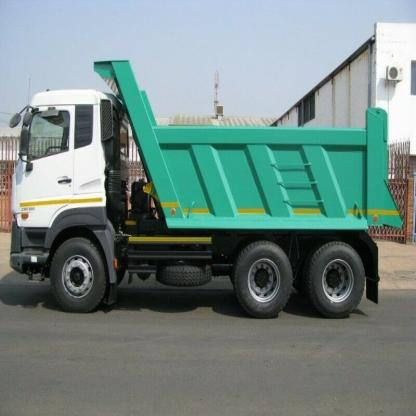dump_truck: (4, 51, 410, 340)
